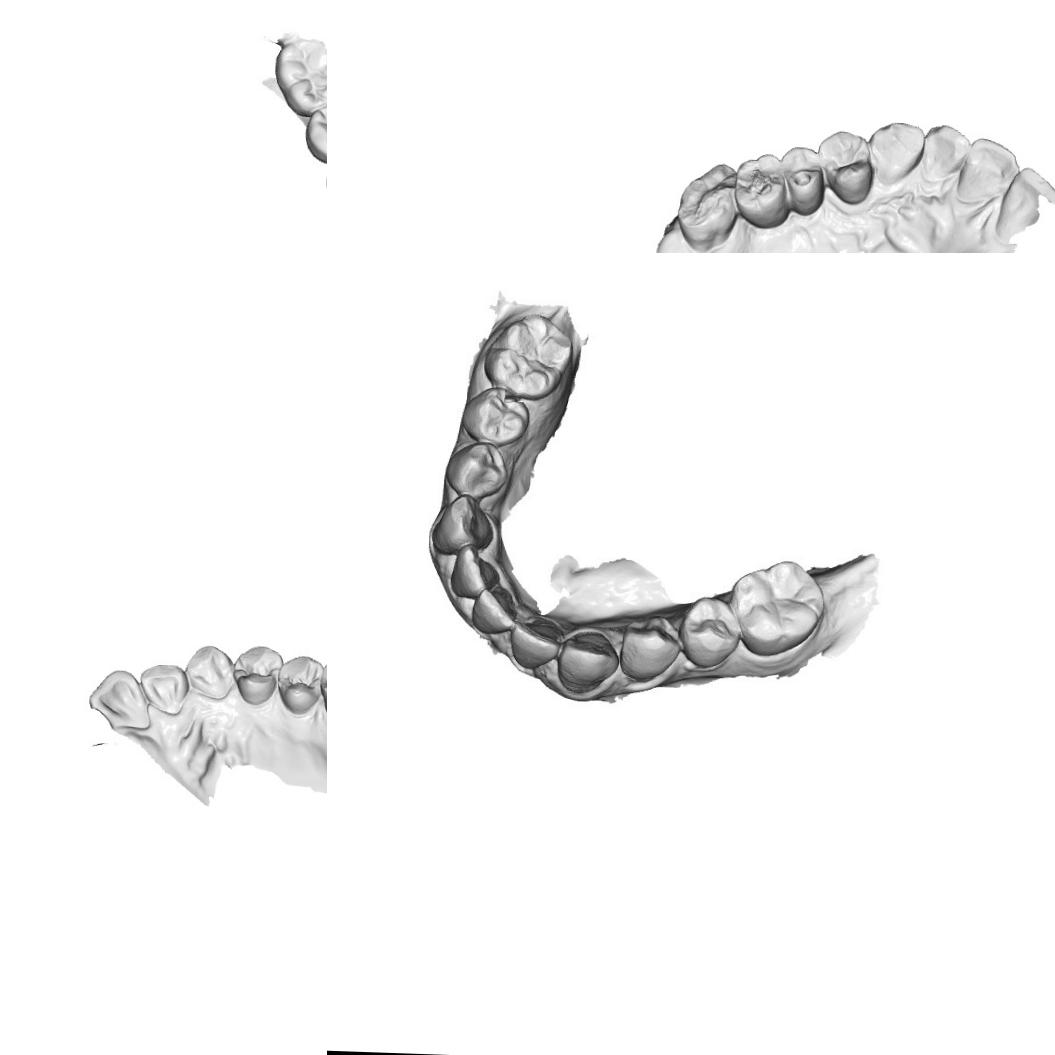canine: (554, 621, 622, 697), (867, 118, 925, 188), (430, 494, 492, 556), (182, 642, 237, 702)
incisor: (953, 134, 1023, 208), (992, 164, 1055, 240), (86, 667, 154, 731), (507, 609, 563, 671), (920, 122, 973, 184), (136, 662, 192, 716), (450, 545, 500, 603), (468, 584, 520, 637)
molar: (731, 558, 825, 659), (477, 310, 572, 393), (673, 160, 738, 253), (268, 37, 327, 117), (732, 151, 790, 232)
premolar: (815, 128, 875, 206), (621, 612, 685, 682), (445, 436, 510, 503), (684, 598, 742, 670), (461, 386, 527, 448), (778, 144, 828, 218), (230, 642, 284, 708), (274, 652, 324, 717), (300, 103, 327, 162)
